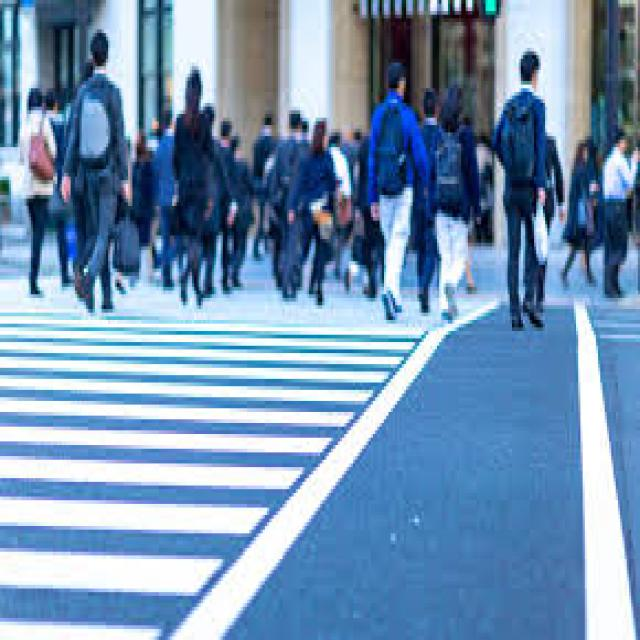Pedestrians: (66, 30, 130, 316), (490, 48, 554, 331), (428, 81, 483, 324), (366, 59, 417, 320), (172, 66, 216, 309)
